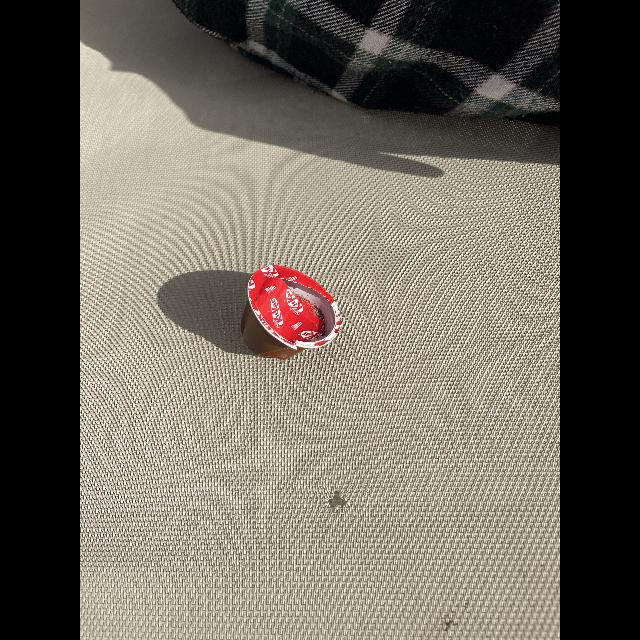damaged_capsule: (231, 256, 347, 370)
